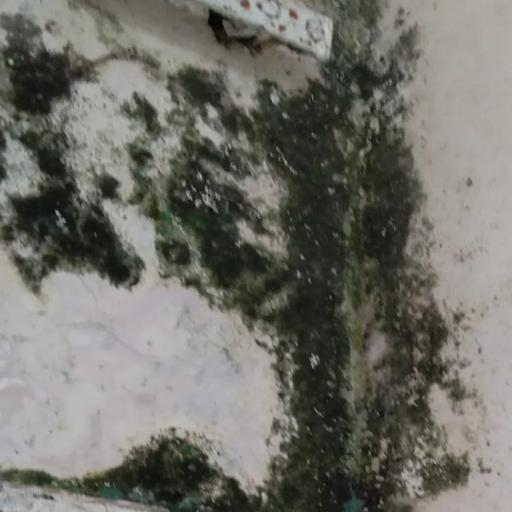algae: (6, 0, 476, 512)
